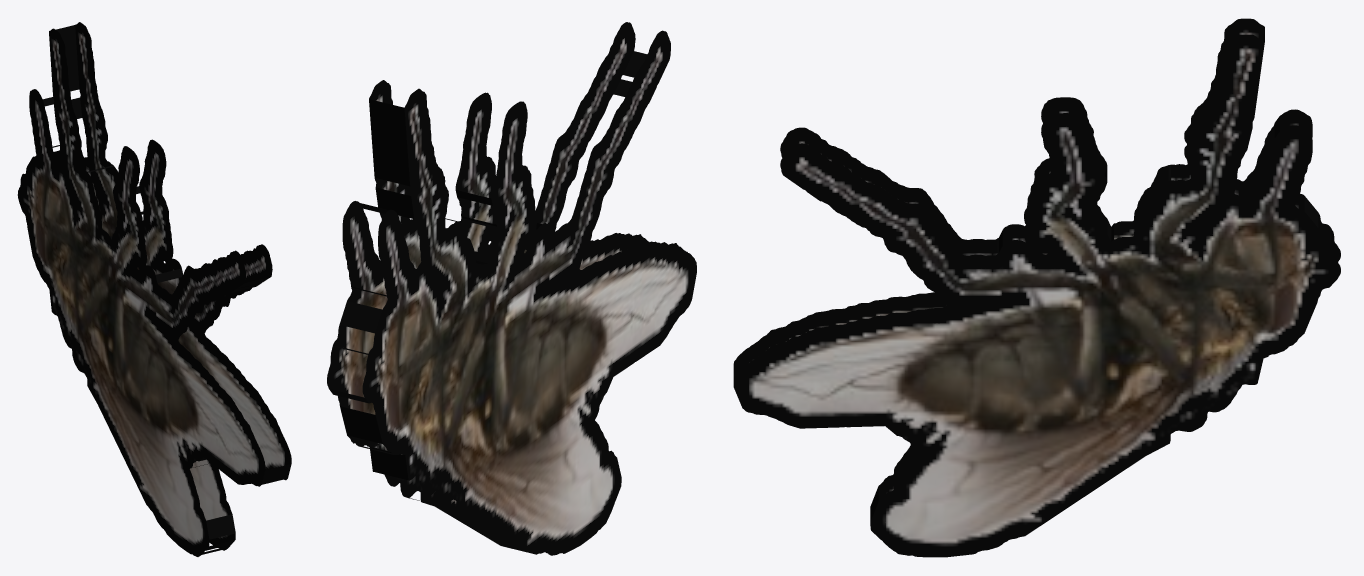
File: DeadFlies.fbx
3 views of the same model, side by side, from view 1: azimuth 30°, elevation 25°; view 2: azimuth 150°, elevation 25°; view 3: azimuth 270°, elevation 25° (orthographic). The views are drawn at different scales.
Parts seen in each view (by area): view 1: Deadflies (1); view 2: Deadflies (1); view 3: Deadflies (1).
Boxes of the visible parts, x1,y1,x2,y2 form: Deadflies (1): (17, 22, 291, 556); Deadflies (1): (327, 22, 696, 555); Deadflies (1): (733, 18, 1340, 557).
Size of the model in its own units: 2.08 by 32.73 by 34.64.
